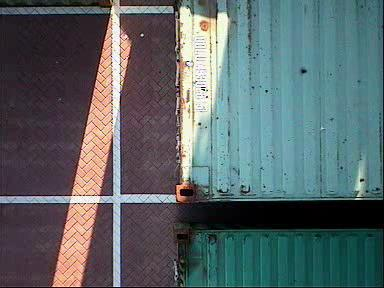groundmarker_2: (174, 1, 229, 84)
